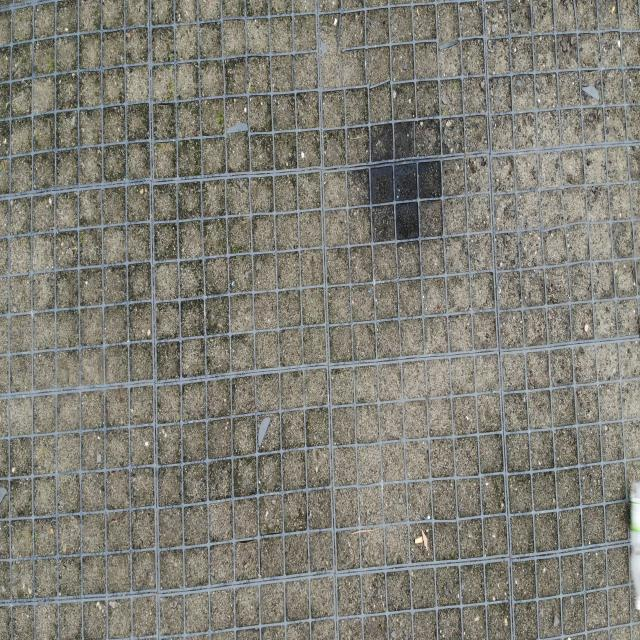rubbish: (628, 481, 640, 610)
